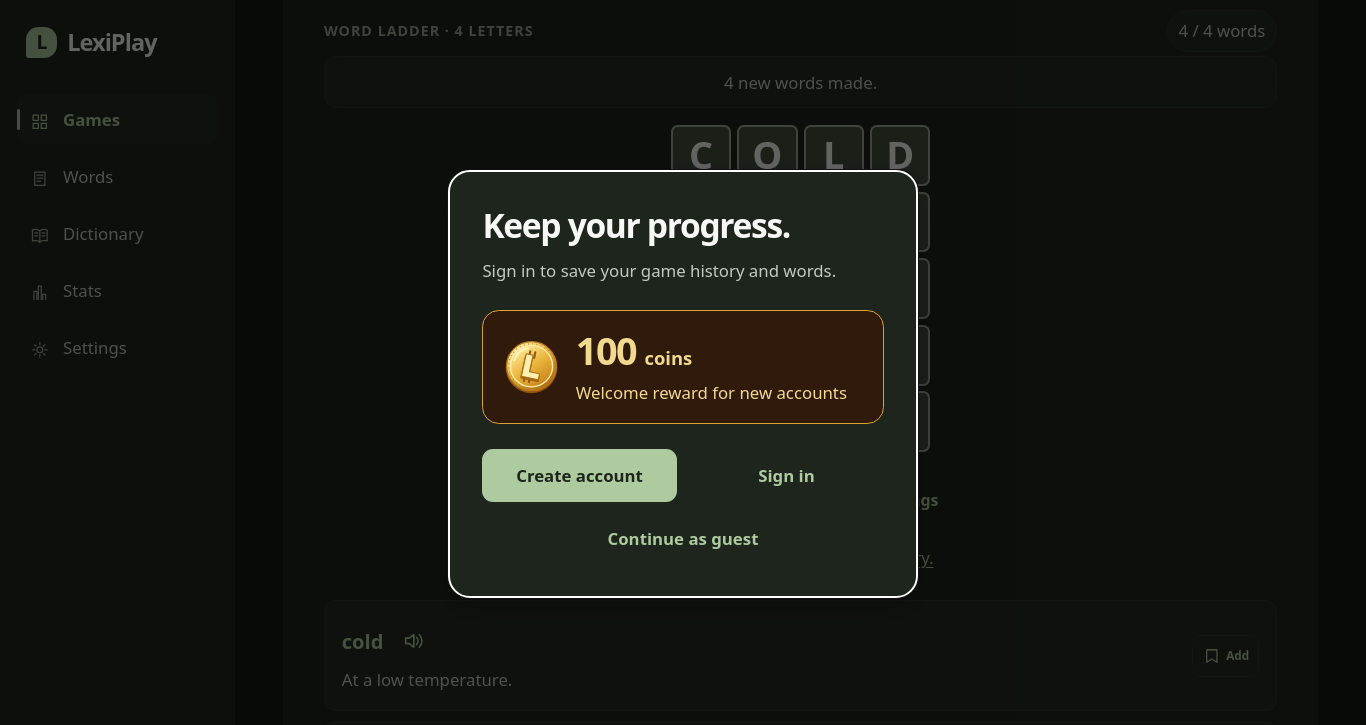
Test: completed games › opens the correct account form from Create account
The width and height of the screenshot is (1366, 725).
(page scrolled)
Click the button "Create account": [580, 476] box [482, 449, 677, 502]
(page scrolled)
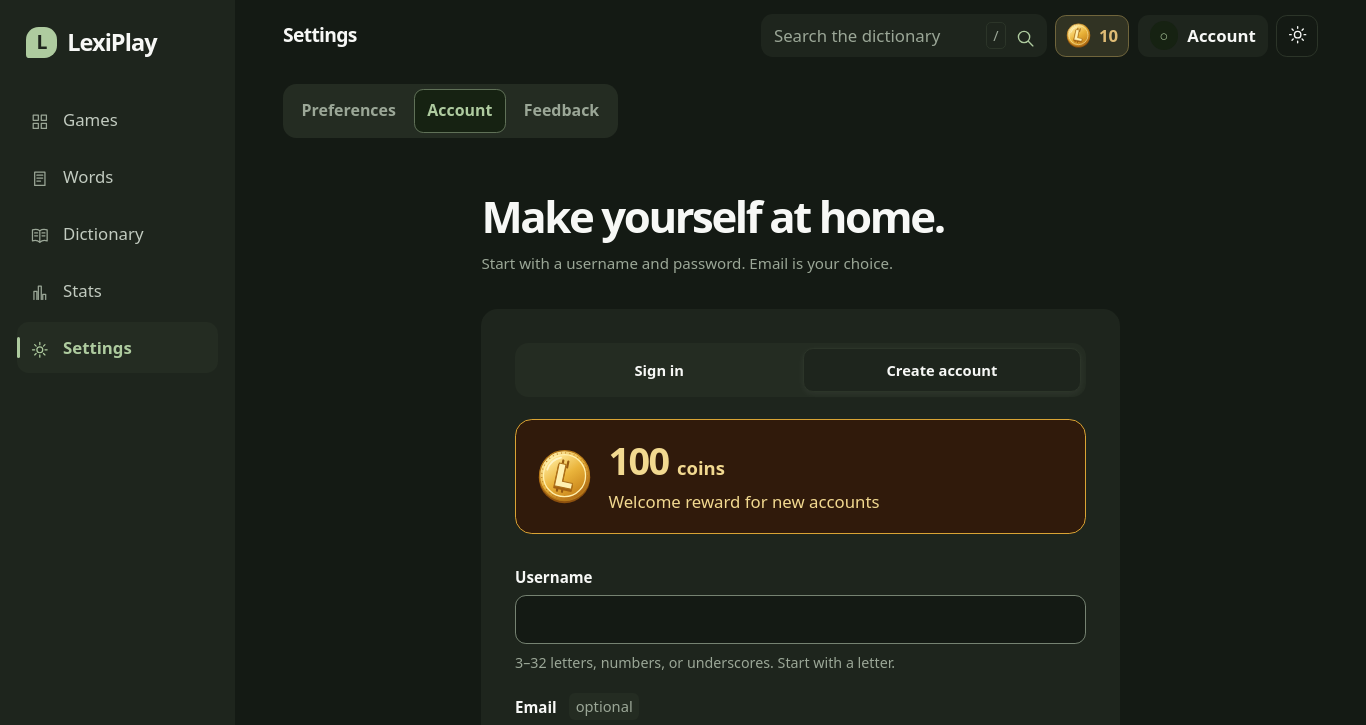
Expected: the element named "New accounts start with 100 coins." is shown, [515, 419, 1086, 534]
Expected: the dialog is gone
Expected: the field labelled "Username" is shown, [515, 595, 1086, 644]
